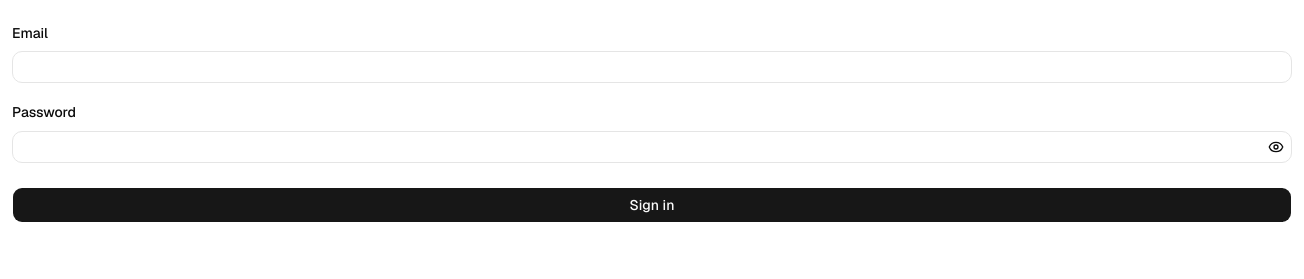
Test: SigninForm › shows invalid credentials, keeps the values and skips /me
In the field labelled "Email": coordinates (652, 67) x1=12 y1=51 x2=1292 y2=83, type "Mostafa@Example.com"
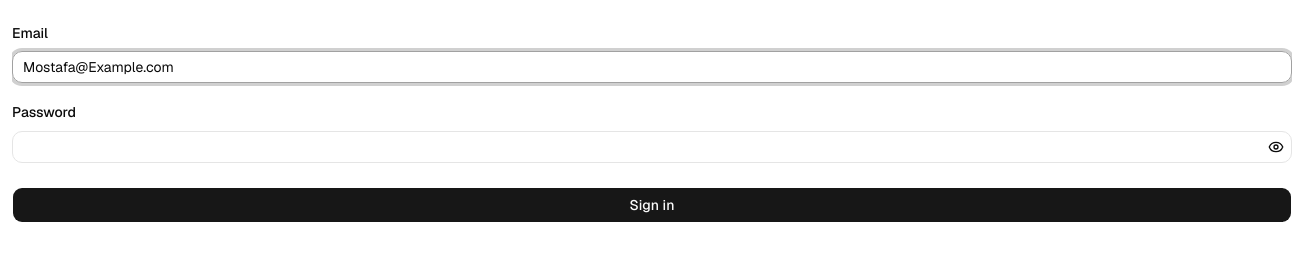
In the password field labelled "Password": coordinates (652, 146) x1=12 y1=130 x2=1292 y2=162, type " secret "
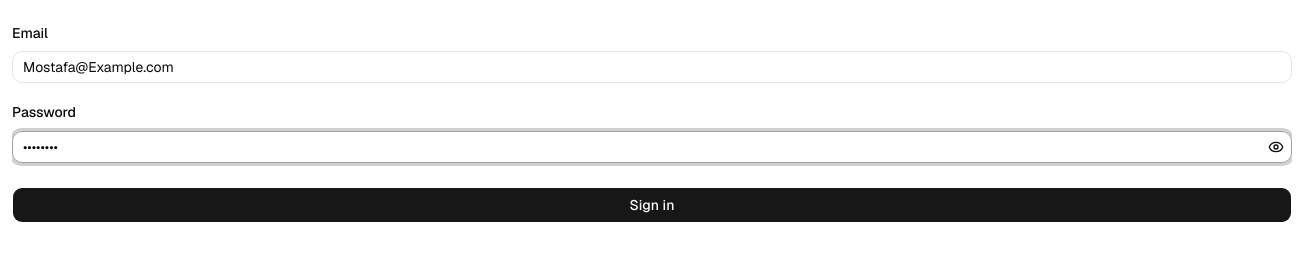
Click the button "Sign in": coordinates (652, 204) x1=12 y1=186 x2=1292 y2=222
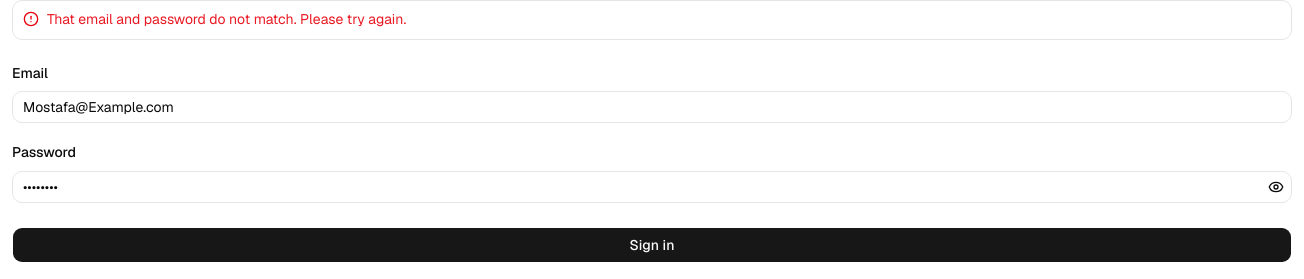
Expected: the text "That email and password do not match. Please try again." is shown, x1=47 y1=10 x2=406 y2=28
